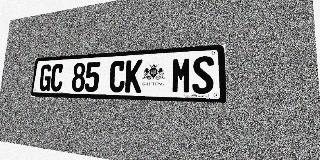5: (84, 62, 100, 92)
8: (71, 62, 86, 92)
C: (109, 60, 126, 93), (50, 64, 64, 91)
G: (39, 64, 52, 91)
K: (125, 59, 143, 93)
M: (171, 57, 192, 94)
S: (192, 56, 214, 94)
